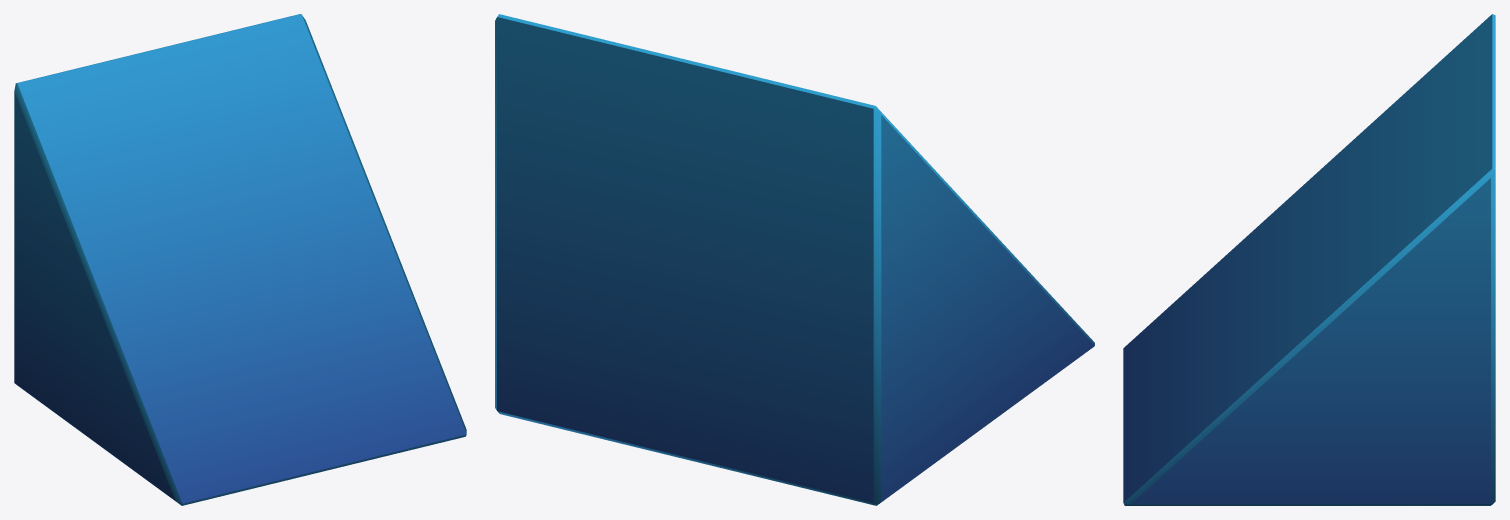
The model's file is Primitive_Slope.fbx.
3 views of the same model, side by side, from view 1: azimuth 30°, elevation 25°; view 2: azimuth 150°, elevation 25°; view 3: azimuth 270°, elevation 25° (orthographic). The views are drawn at different scales.
Visible parts, largest first — view 1: Primitive_Slope; view 2: Primitive_Slope; view 3: Primitive_Slope.
Part boxes in pixels (<box>): Primitive_Slope: <box>14,14,466,505</box>; Primitive_Slope: <box>495,14,1094,505</box>; Primitive_Slope: <box>1123,14,1495,505</box>.
Size of the model in its own units: 4 by 3.96 by 3.96.
